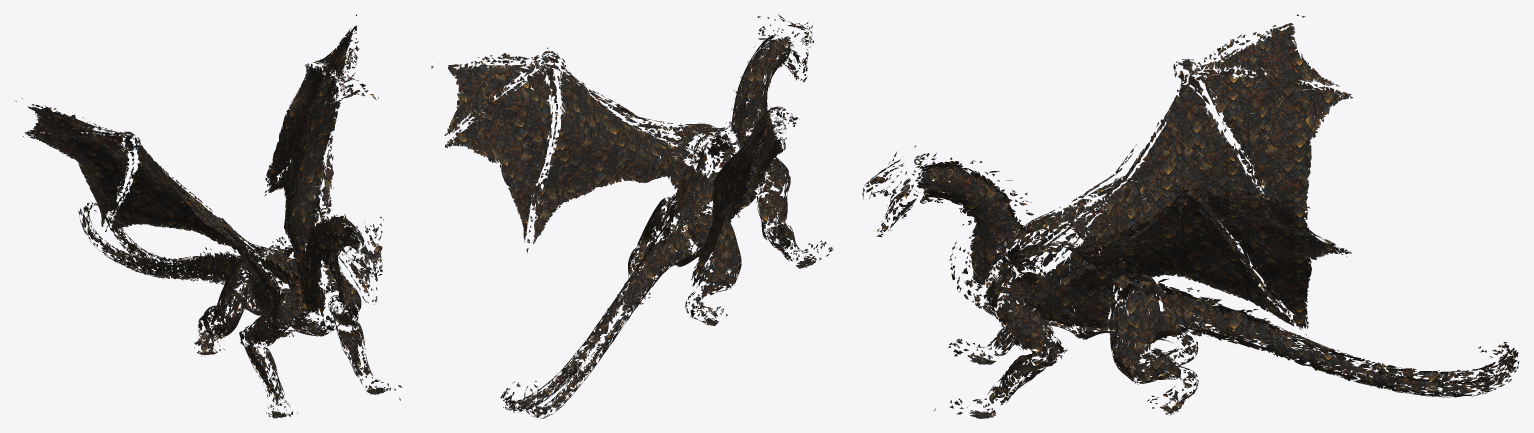
Rendered from golden_ember_dragon_textured_runtime.glb.
The picture shows the model from 3 angles, left to right: view 1: azimuth 30°, elevation 25°; view 2: azimuth 150°, elevation 25°; view 3: azimuth 270°, elevation 25°; orthographic projection. The views are drawn at different scales.
Parts seen in each view (by area): view 1: golden_ember_dragon_textured_runtime; view 2: golden_ember_dragon_textured_runtime; view 3: golden_ember_dragon_textured_runtime.
Boxes of the visible parts, x1,y1,x2,y2 form: golden_ember_dragon_textured_runtime: (15,14,401,418); golden_ember_dragon_textured_runtime: (431,14,833,418); golden_ember_dragon_textured_runtime: (862,14,1519,418).
Size of the model in its own units: 1.31 by 0.9041 by 1.89.
Materials: 1 (1 with a texture image).
